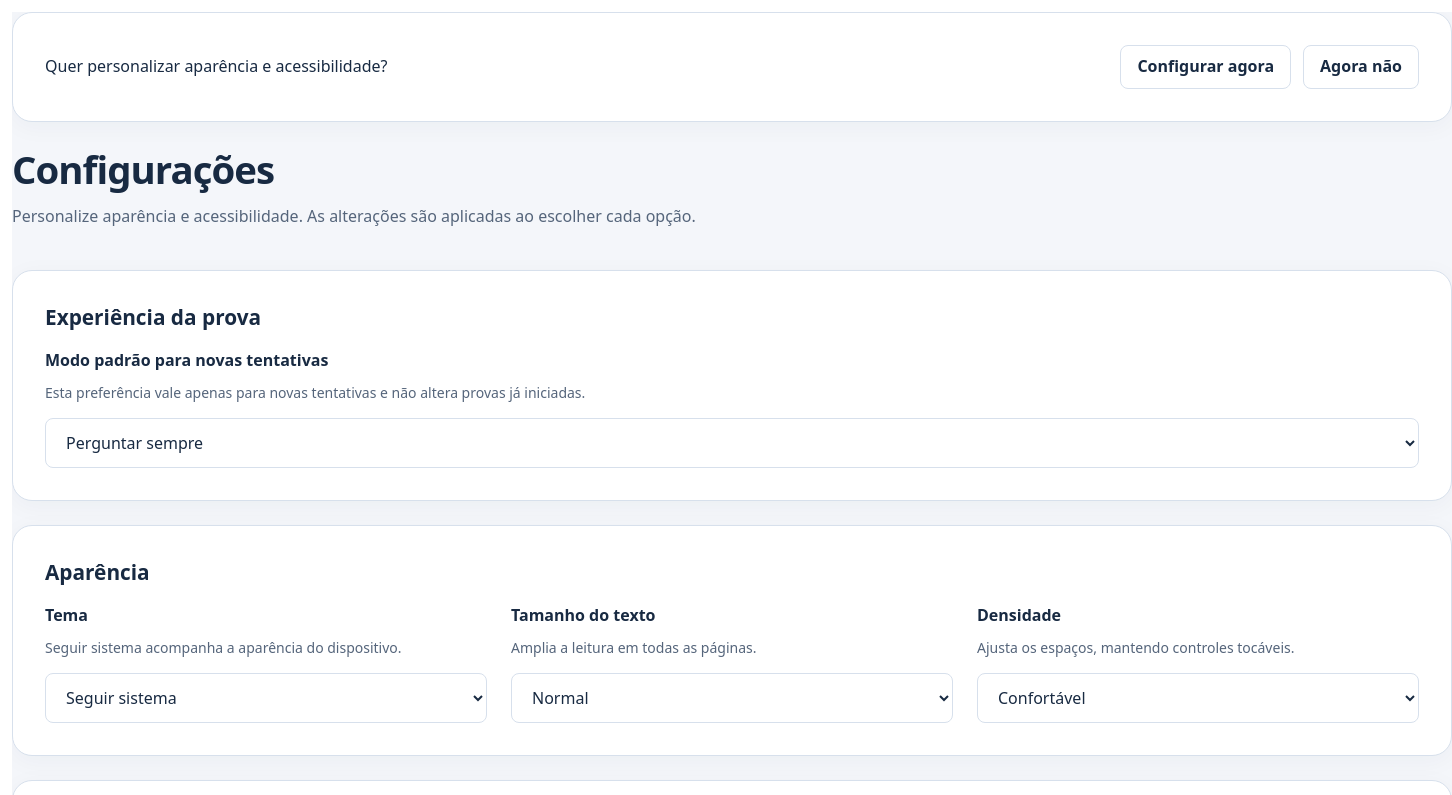
Test: configurações e primeiro uso opcional › Agora não oculta banner e persiste decisão; remount não reaparece
Click the button "Agora não": point(1361, 67) x1=1303 y1=45 x2=1419 y2=89
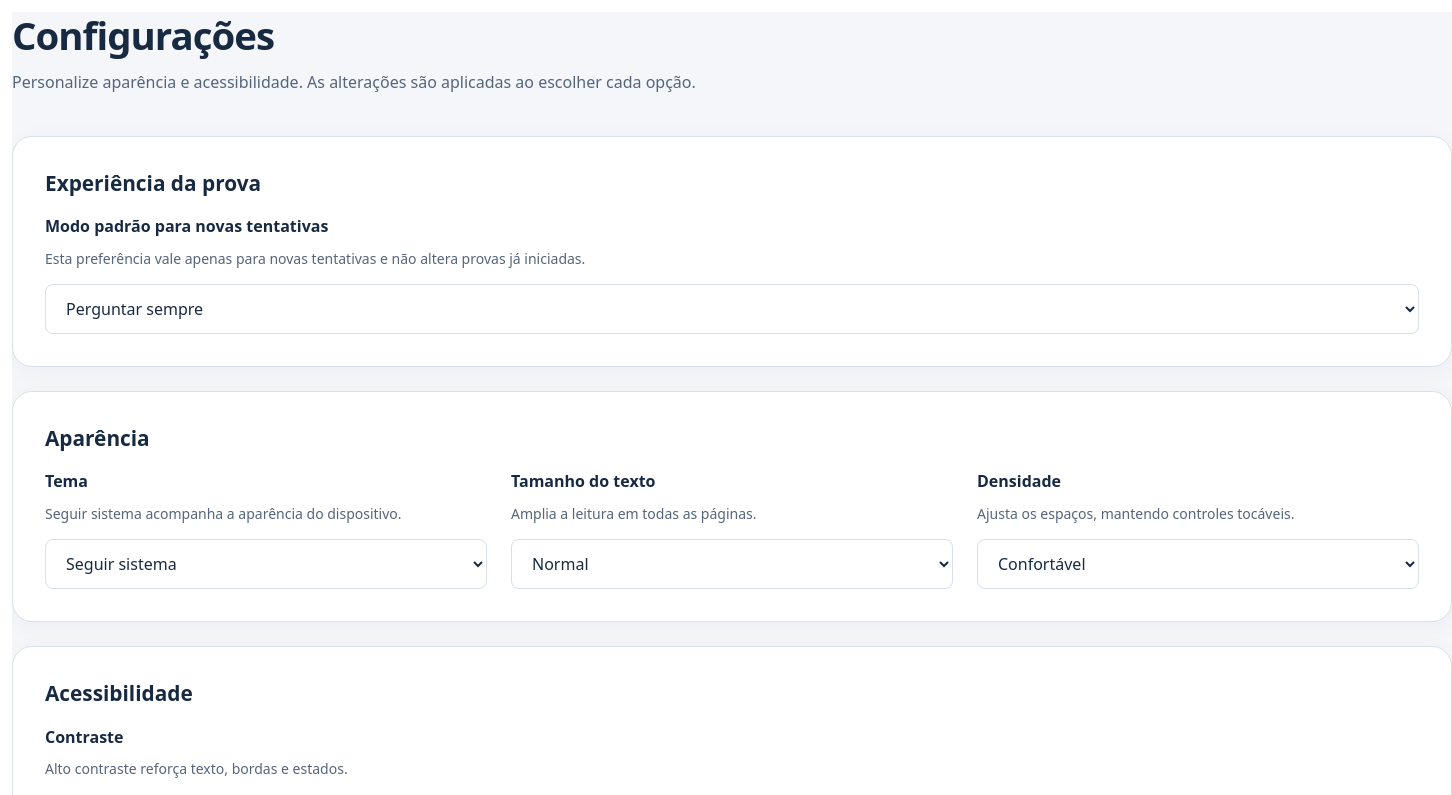
Check: the text "Quer personalizar aparência e acessibilidade?" is gone
